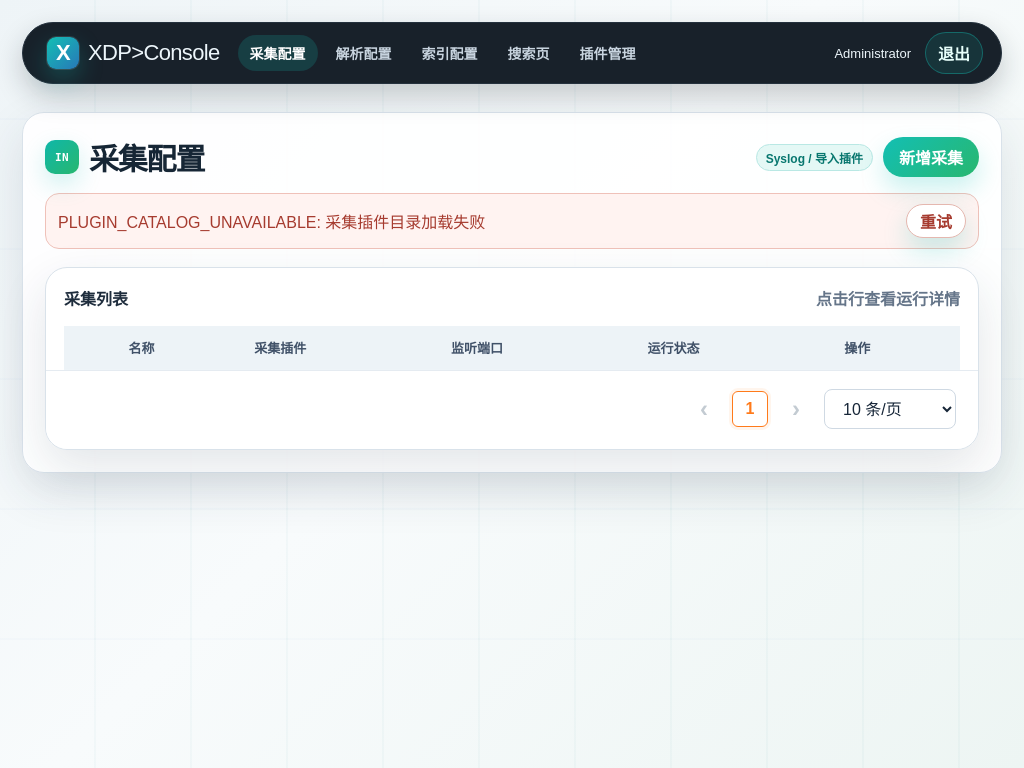
Test: XDP collection config API integration › retries the input plugin catalog after a direct-load failure
Check: the element with test id "input-plugin-catalog-error" shows "采集插件目录加载失败", box [58,214,485,231]
Click the button with test id "retry-input-plugin-catalog". click: (936,221)
box: [906,204,966,238]
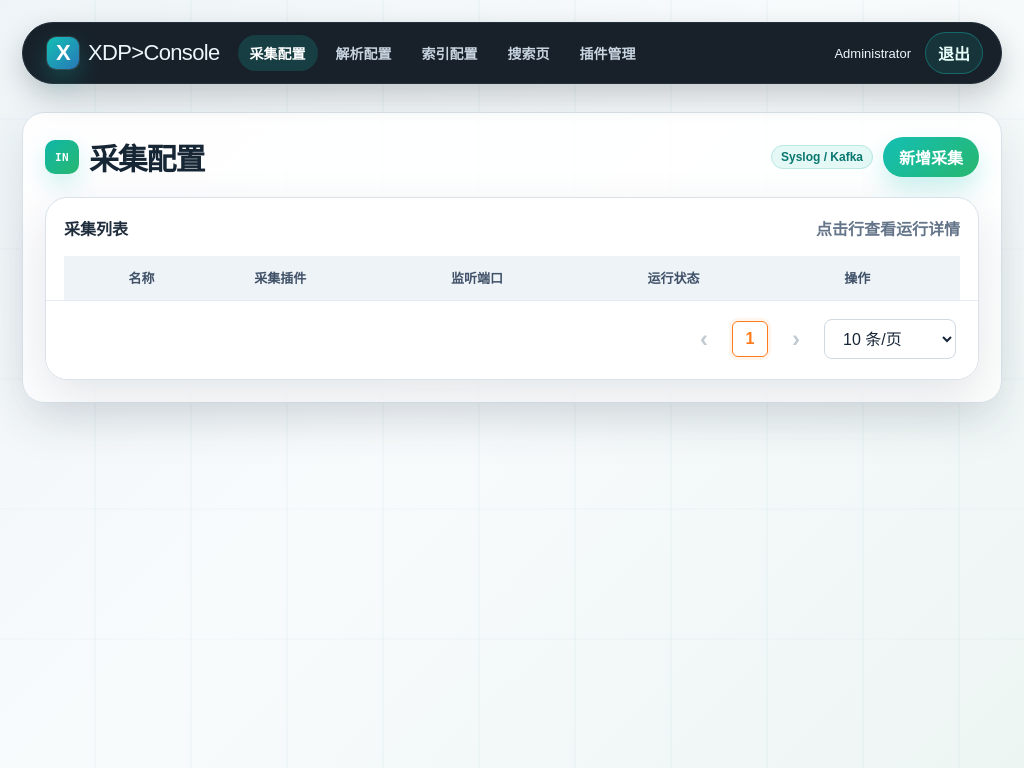
Click the button with test id "show-input-form". click: (931,157)
box: [883,137,979,177]
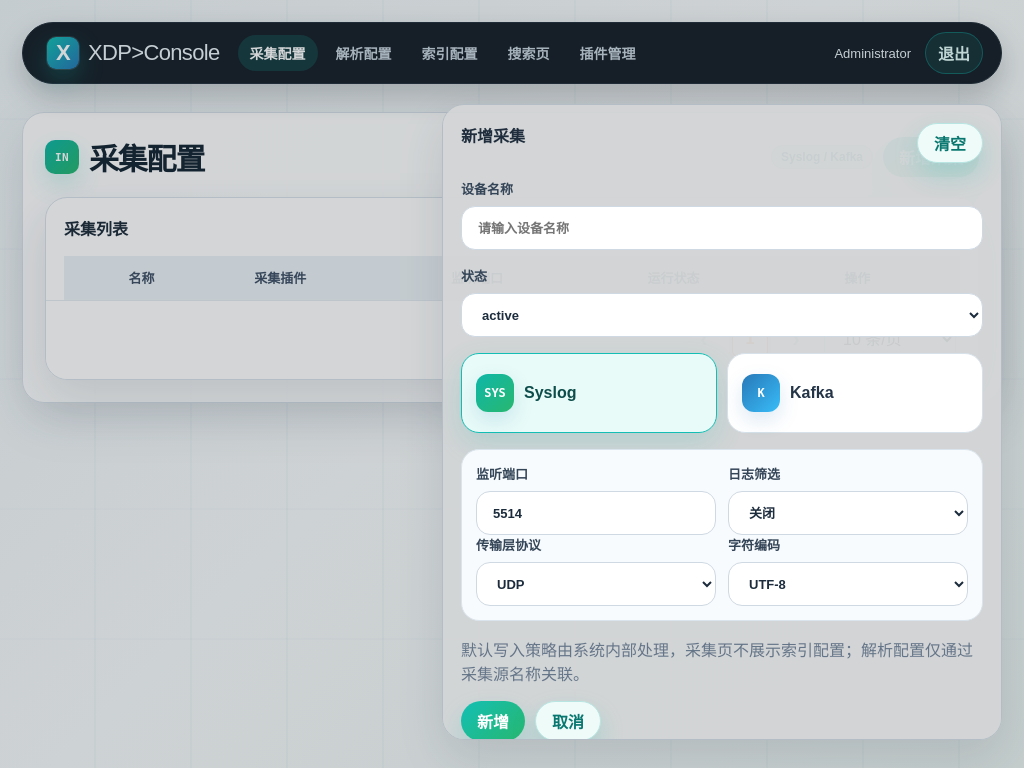
Check: the button with test id "input-plugin-kafka" shows "Kafka", box [727,353,983,433]
